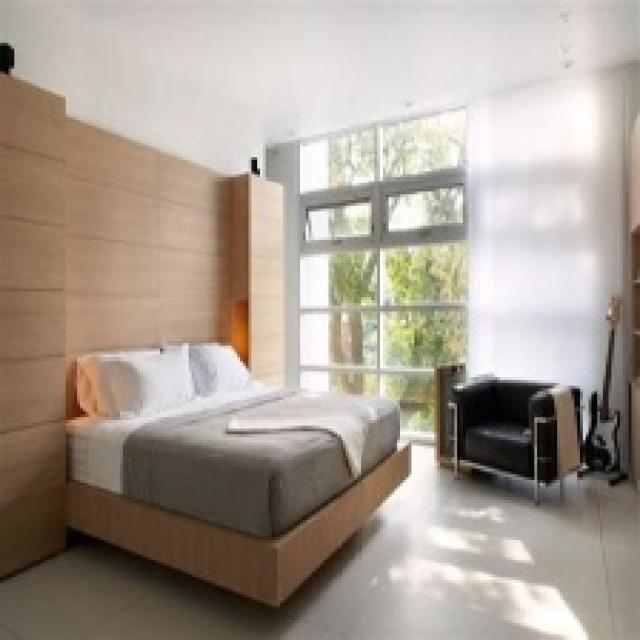Bed: (63, 340, 411, 609)
